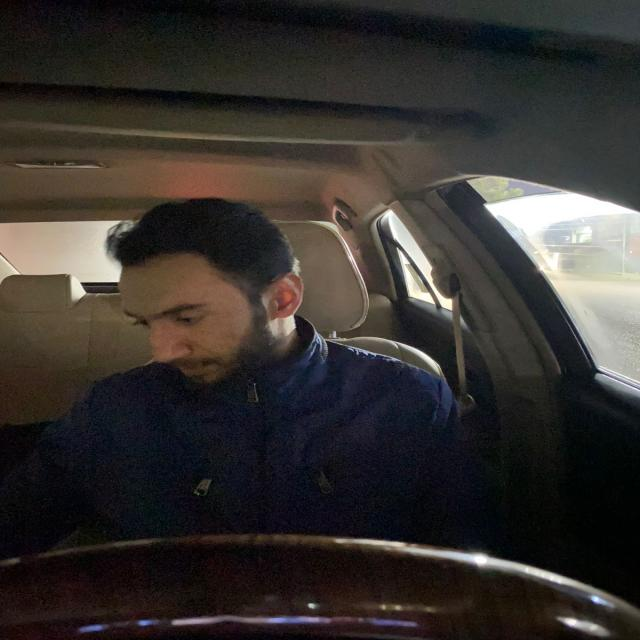person: (98, 199, 308, 398)
